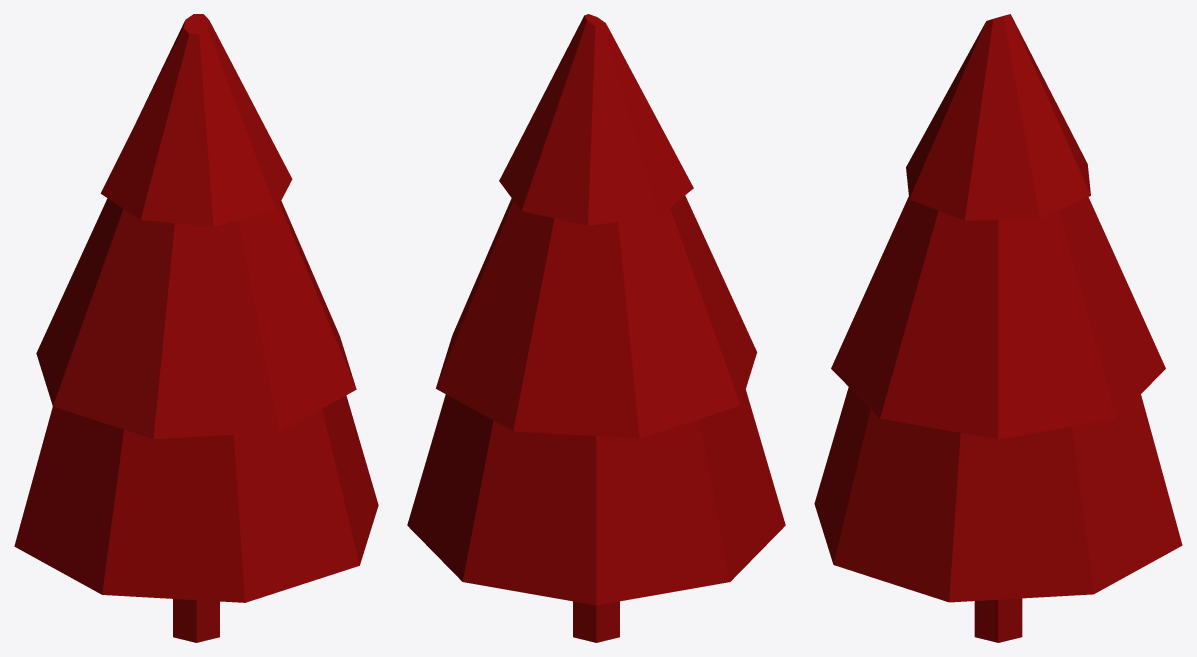
File: SM_BigSpruce.fbx
3 renders of one model, left to right at view 1: azimuth 30°, elevation 25°; view 2: azimuth 150°, elevation 25°; view 3: azimuth 270°, elevation 25°, orthographic.
Visible parts, largest first — view 1: Large_MidLeaf_Spruce_low, Large_BottLeaf_Spruce, Large_TottLeaf_Spruce, Large_Truck_Spruce_low; view 2: Large_BottLeaf_Spruce, Large_MidLeaf_Spruce_low, Large_TottLeaf_Spruce, Large_Truck_Spruce_low; view 3: Large_MidLeaf_Spruce_low, Large_BottLeaf_Spruce, Large_TottLeaf_Spruce, Large_Truck_Spruce_low.
Boxes of the visible parts, bbox=[...] form: Large_MidLeaf_Spruce_low: bbox=[36, 198, 356, 438]; Large_BottLeaf_Spruce: bbox=[14, 395, 378, 602]; Large_TottLeaf_Spruce: bbox=[100, 14, 292, 226]; Large_Truck_Spruce_low: bbox=[173, 599, 219, 642]; Large_BottLeaf_Spruce: bbox=[407, 389, 785, 605]; Large_MidLeaf_Spruce_low: bbox=[436, 195, 757, 438]; Large_TottLeaf_Spruce: bbox=[499, 14, 693, 225]; Large_Truck_Spruce_low: bbox=[573, 601, 619, 642]; Large_MidLeaf_Spruce_low: bbox=[831, 196, 1165, 439]; Large_BottLeaf_Spruce: bbox=[814, 387, 1182, 602]; Large_TottLeaf_Spruce: bbox=[906, 14, 1090, 220]; Large_Truck_Spruce_low: bbox=[974, 598, 1022, 642].
Bounding box in the file's own units: 52.23 × 97.02 × 52.23.
